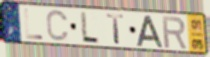A: (136, 15, 164, 49)
C: (45, 9, 70, 43)
L: (23, 7, 45, 41), (79, 10, 100, 45)
R: (161, 15, 189, 50)
T: (105, 13, 126, 46)
